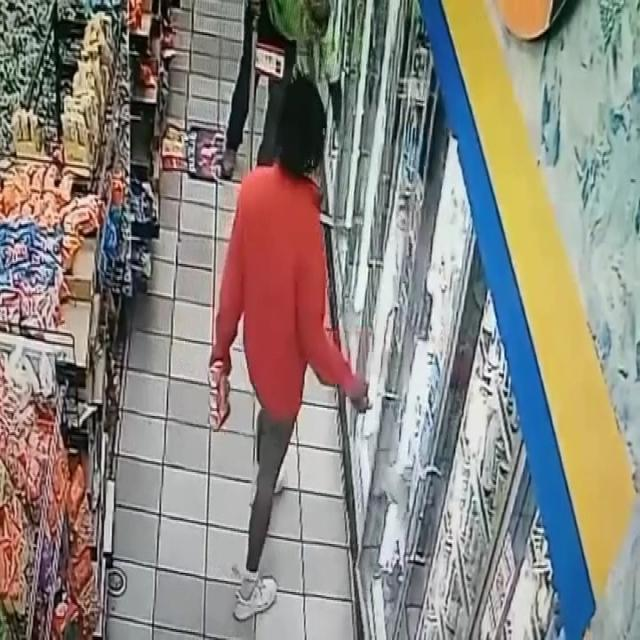Normal: (204, 68, 374, 640), (217, 0, 350, 187)
